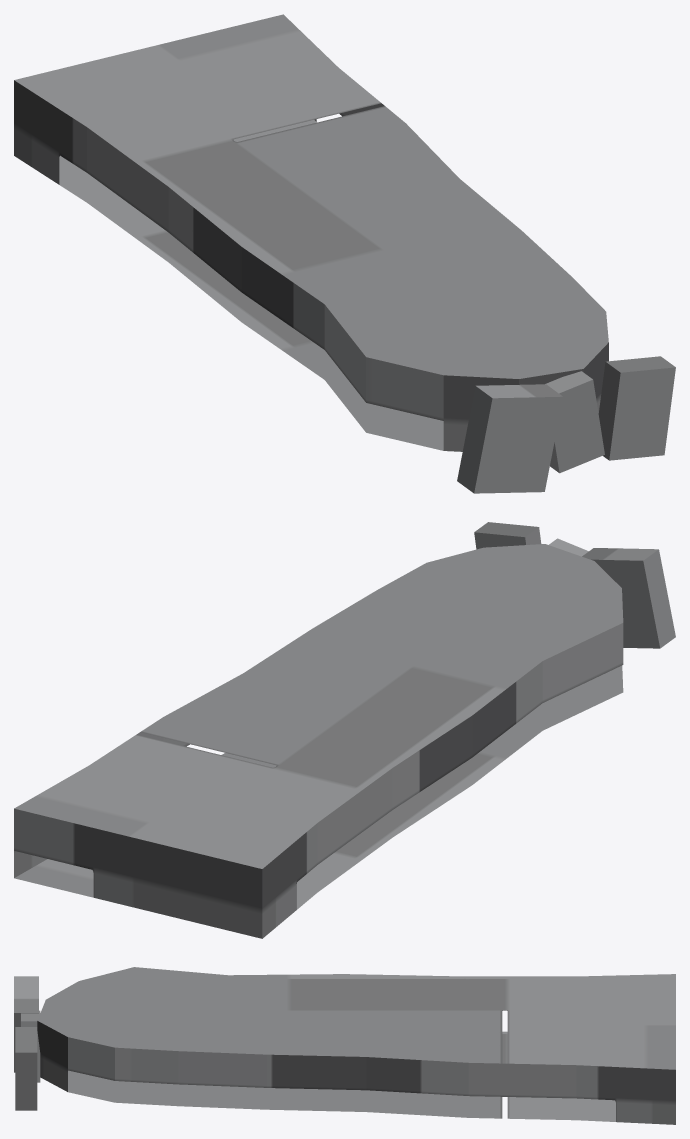
3 views of the same model, one above another, from view 1: azimuth 30°, elevation 25°; view 2: azimuth 150°, elevation 25°; view 3: azimuth 270°, elevation 25° (orthographic). The views are drawn at different scales.
Size of the model in its own units: 0.8096 by 0.2851 by 2.2.
